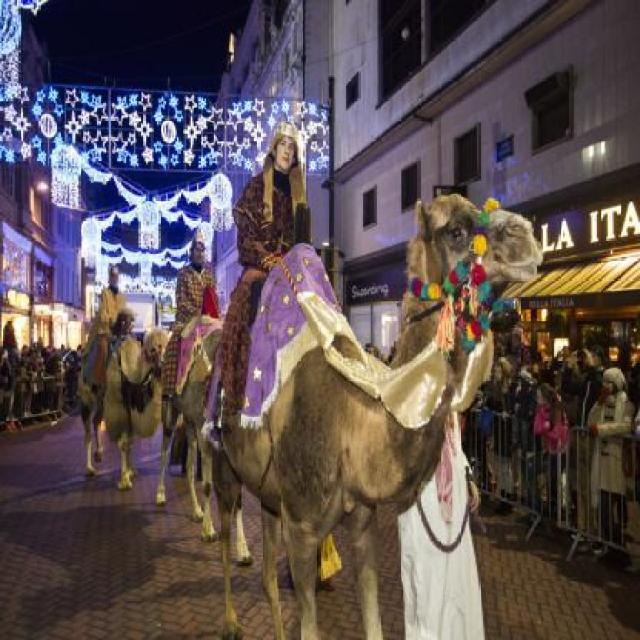Person: (456, 326, 639, 568), (218, 120, 310, 414), (0, 320, 86, 440), (165, 232, 217, 406), (83, 263, 139, 408)
